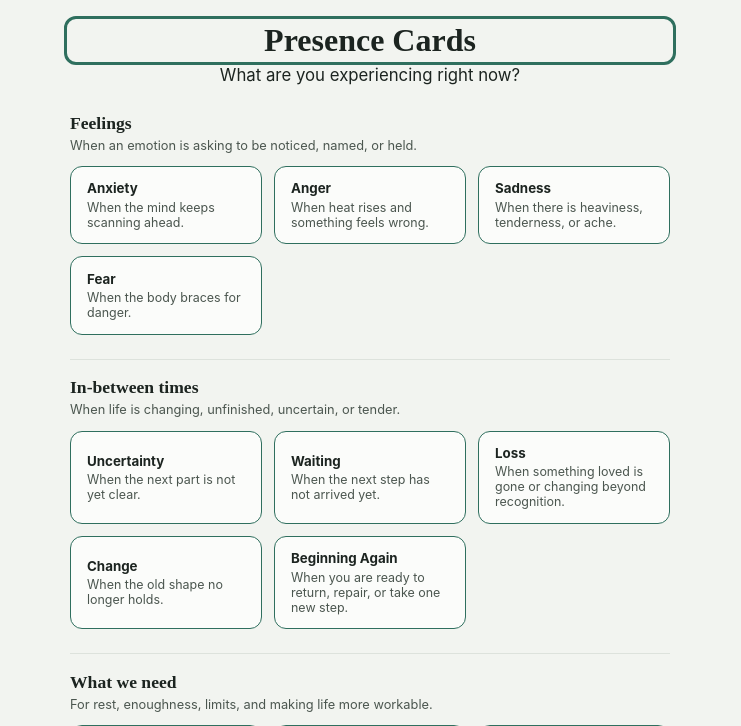
Test: navigation › draws a specific card and announces its title
Click the button "Anxiety When the mind keeps scanning ahead." at (166, 205), box 70,166 -> 262,244
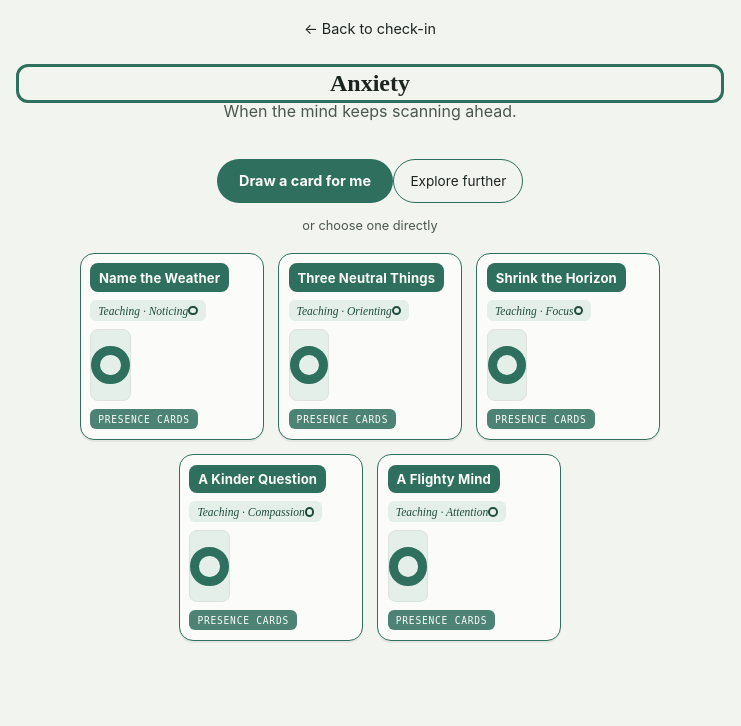
Click the button "Draw a card for me" at (305, 181), box 217,159 -> 393,203
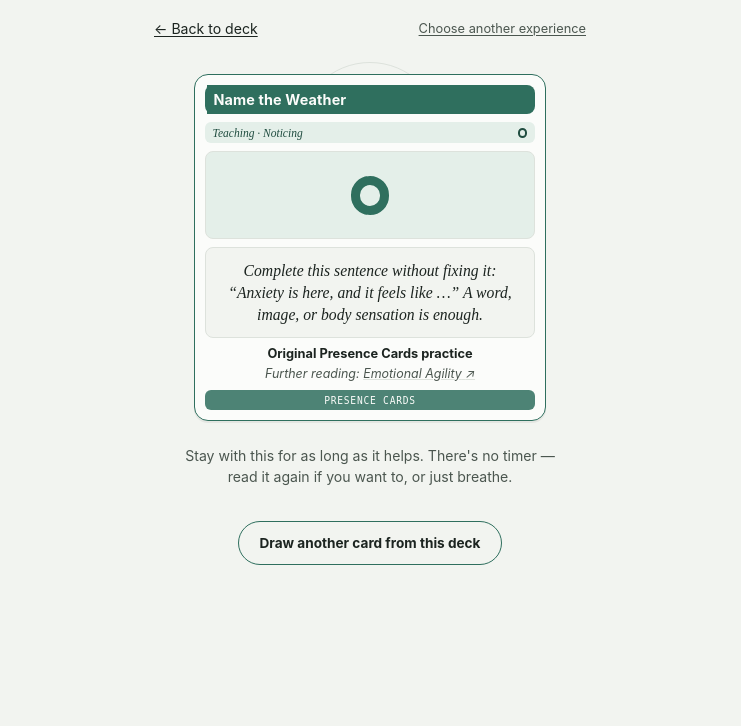
Result: the button "Draw another card from this deck" is shown at 238,521 -> 502,565
